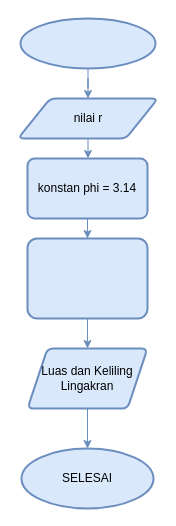
Some shapes in this 176 by 526 pixel diagram are drawn without their labels. The centre of each missing label's shape, as x and y in pixels:
"Luas Lingkaran (phi * r * r) Keliling Lingkaran (2 * phi * r)" goes at pixel 87 278.
"MULAI" goes at pixel 87 43.
